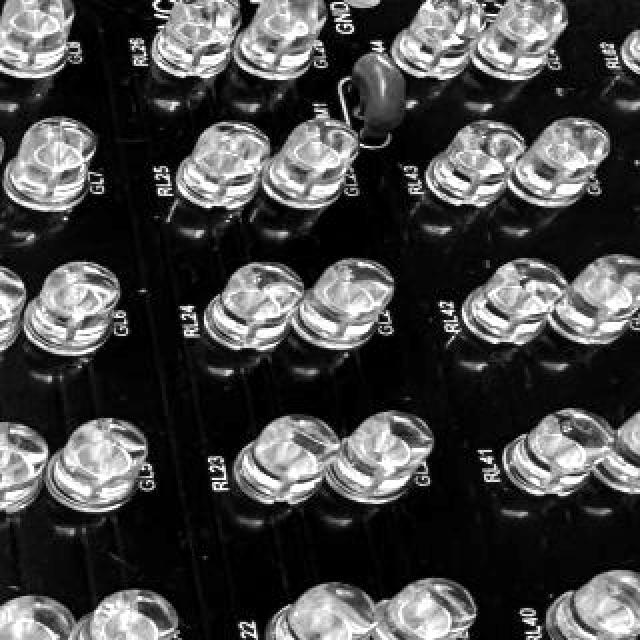EMC filter: (346, 51, 406, 145)
